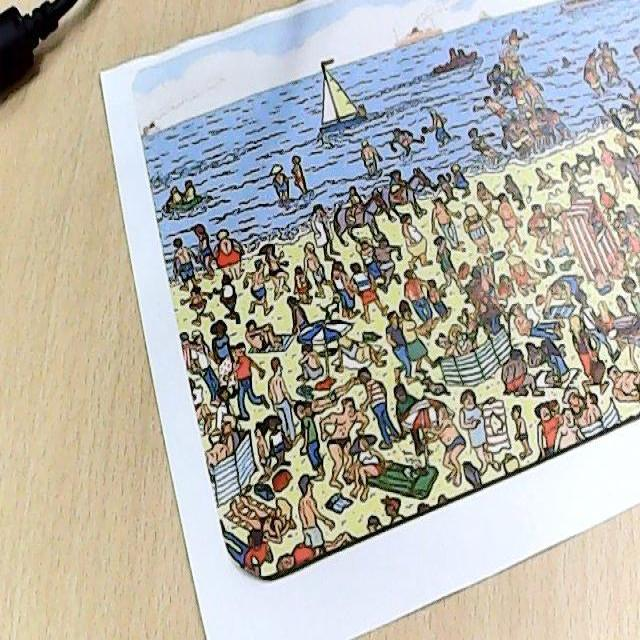waldo: (466, 280, 492, 305)
